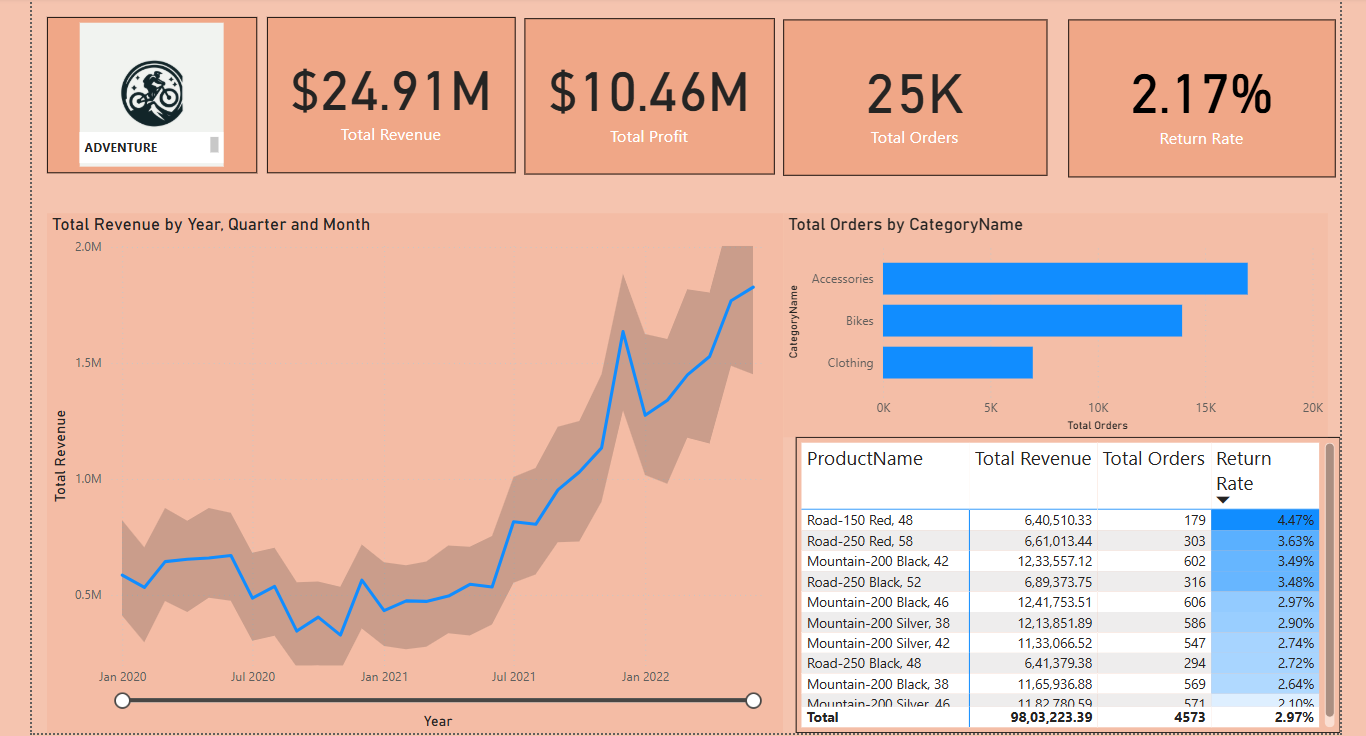

The page's visual inventory and layout, read from the dashboard file:
{"tool":"powerbi","page":{"name":"Dashboard","canvas":[1280,720],"ordinal":0},"visuals":[{"type":"card","fields":{"Values":["MEASURE TABLE.Total Revenue"]},"box":[229.9,19.6,243.3,152.9],"z":0},{"type":"card","fields":{"Values":["MEASURE TABLE.Total Profit"]},"box":[481.8,20.8,244.6,152.9],"z":1000},{"type":"card","fields":{"Values":["MEASURE TABLE.Total Orders"]},"box":[734.9,22,258,152.9],"z":2000},{"type":"card","fields":{"Values":["MEASURE TABLE.Return Rate"]},"box":[1013.7,22,261.7,154.1],"z":3000},{"type":"lineChart","fields":{"Category":["Calendar Lookup.Start of Month.Variation.Date Hierarchy.Year","Calendar Lookup.Start of Month.Variation.Date Hierarchy.Quarter","Calendar Lookup.Start of Month.Variation.Date Hierarchy.Month","Calendar Lookup.Start of Month.Variation.Date Hierarchy.Day"],"Y":["MEASURE TABLE.Total Revenue"]},"box":[14.7,211.6,720.2,508.7],"z":4000},{"type":"pivotTable","fields":{"Rows":["Product Lookup.ProductName"],"Values":["MEASURE TABLE.Total Revenue","MEASURE TABLE.Total Orders","MEASURE TABLE.Return Rate"]},"box":[747.2,430.4,533.2,289.8],"z":5000},{"type":"clusteredBarChart","fields":{"Category":["Product Categories Lookup.CategoryName"],"Y":["MEASURE TABLE.Total Orders"]},"box":[734.9,211.6,533.2,218.9],"z":6000},{"type":"image","box":[14.7,19.6,205.4,152.9],"z":7000},{"type":"textbox","box":[46.5,132.1,140.6,30.6],"z":8000}]}

Visuals, with their boxes on the page's 1280x720 design canvas (x1, y1, x2, y2). These are canvas units, not pixel positions in the 1366x736 screenshot, which may show the page scaled, cropped or inside an application window:
card - MEASURE TABLE.Total Revenue: rect(230, 20, 473, 172)
card - MEASURE TABLE.Total Profit: rect(482, 21, 726, 174)
card - MEASURE TABLE.Total Orders: rect(735, 22, 993, 175)
card - MEASURE TABLE.Return Rate: rect(1014, 22, 1275, 176)
lineChart - Calendar Lookup.Start of Month.Variation.Date Hierarchy.Year x Calendar Lookup.Start of Month.Variation.Date Hierarchy.Quarter: rect(15, 212, 735, 720)
pivotTable - Product Lookup.ProductName x MEASURE TABLE.Total Revenue: rect(747, 430, 1280, 720)
clusteredBarChart - Product Categories Lookup.CategoryName x MEASURE TABLE.Total Orders: rect(735, 212, 1268, 430)
image: rect(15, 20, 220, 172)
textbox: rect(46, 132, 187, 163)
